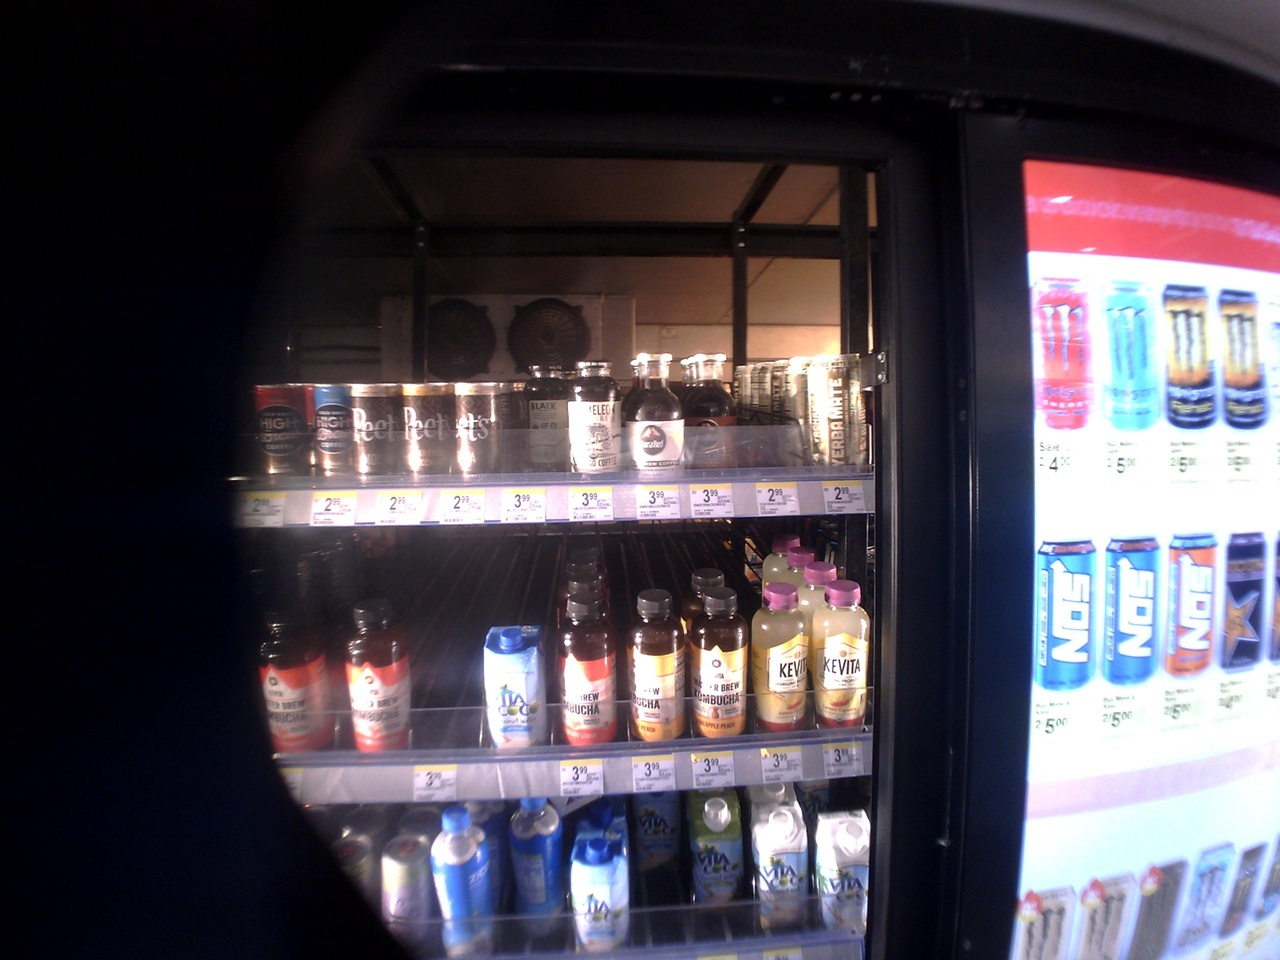shelf: (217, 542, 926, 777), (253, 321, 889, 523), (255, 798, 887, 944)
